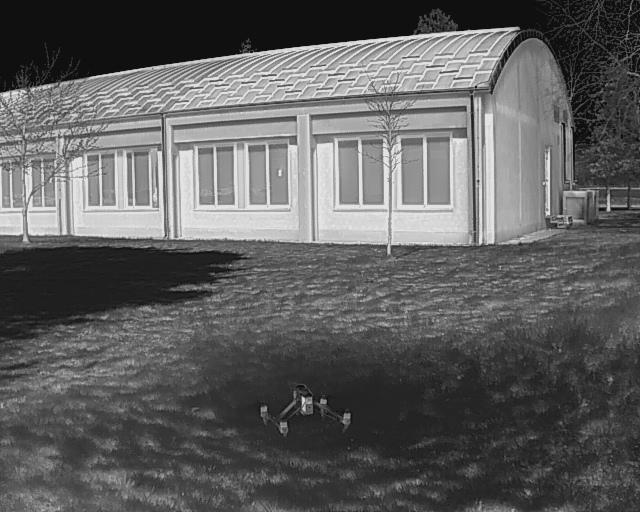drone: (240, 364, 366, 456)
